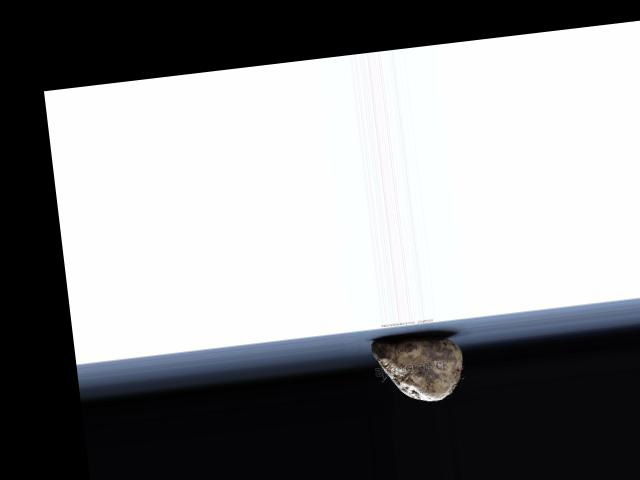beet: (372, 330, 468, 406)
